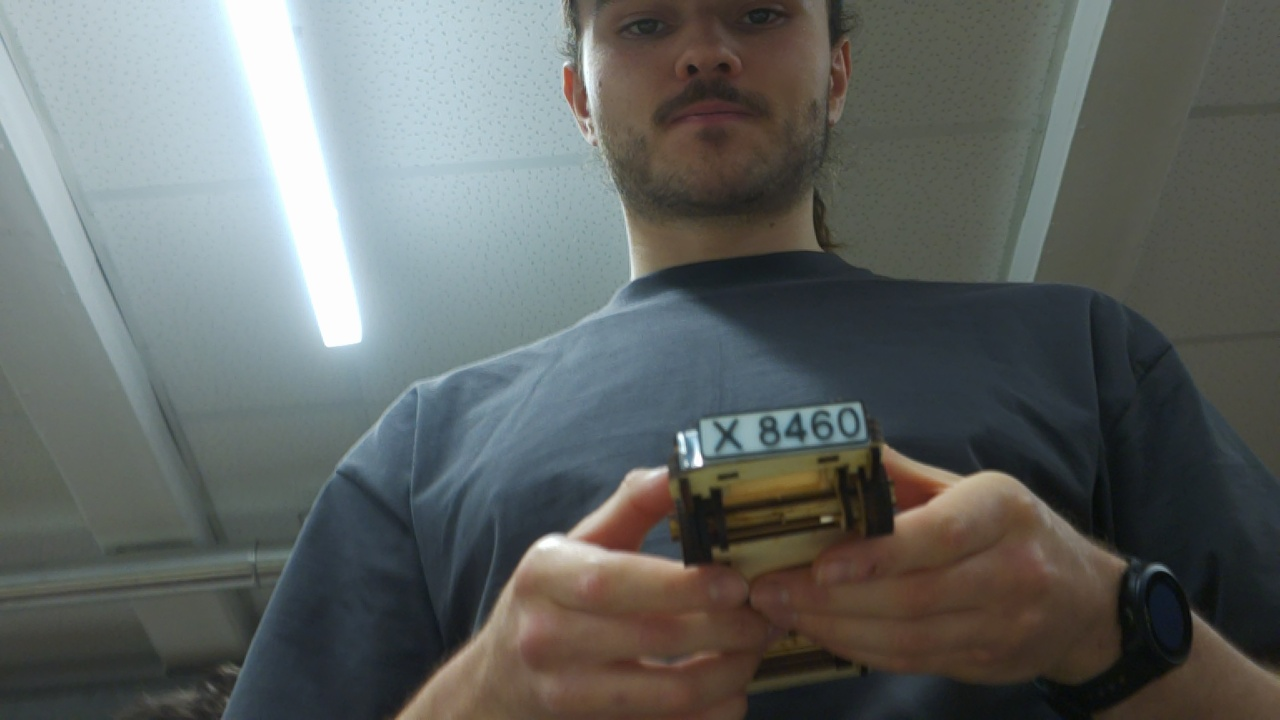license_plate: (691, 394, 877, 465)
